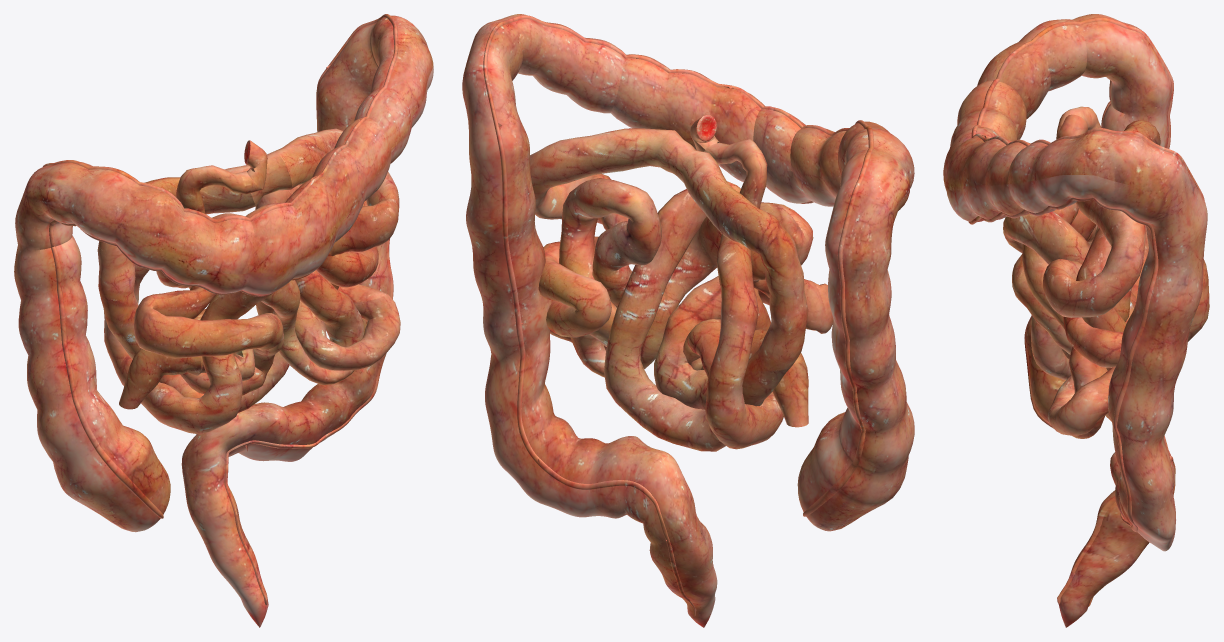
The picture shows the model from 3 angles, left to right: view 1: azimuth 30°, elevation 25°; view 2: azimuth 150°, elevation 25°; view 3: azimuth 270°, elevation 25°; orthographic projection. The views are drawn at different scales.
Parts seen in each view (by area): view 1: Cube.003, SmallIntestines.001; view 2: Cube.003, SmallIntestines.001; view 3: Cube.003, SmallIntestines.001.
Part boxes in pixels (x1=…): Cube.003: x1=14, y1=14, x2=433, y2=627; SmallIntestines.001: x1=97, y1=128, x2=400, y2=434; Cube.003: x1=462, y1=14, x2=914, y2=627; SmallIntestines.001: x1=530, y1=115, x2=833, y2=451; Cube.003: x1=943, y1=14, x2=1207, y2=627; SmallIntestines.001: x1=1003, y1=106, x2=1209, y2=438.
Size of the model in its own units: 25.3 by 33.57 by 13.97.
Materials: 1 (1 with a texture image).
